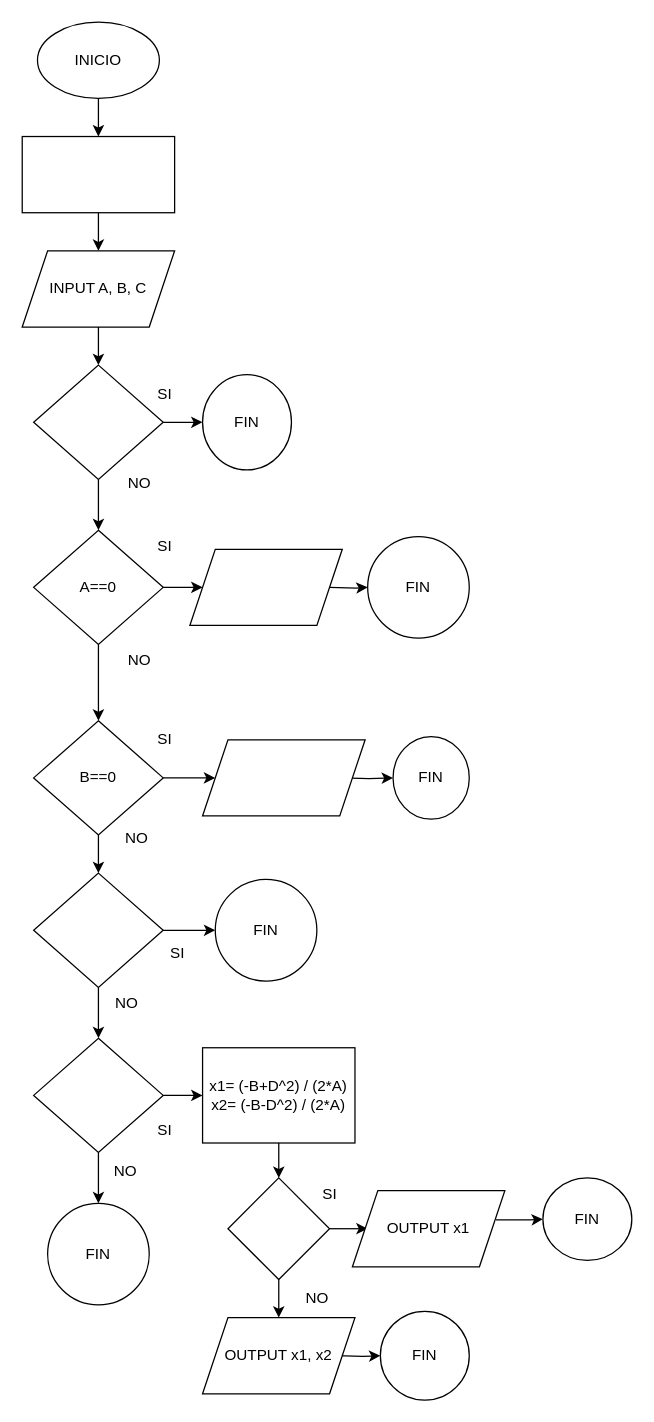
Image size: 654x1422. Some labels were removed from this diagram. The shapes that lost their labels are listed below. From the top down, each one's box as (x1, y1, x2, y2) in pixels, then its label:
(21, 135, 175, 213): Declarando A, B, C
(32, 364, 163, 479): A==0 and B==0
(189, 548, 342, 625): OUTPUT -C/B
(201, 739, 365, 816): OUTPUT (-C/A)^2
(32, 872, 163, 987): D < 0
(32, 1037, 163, 1153): D >= 0
(227, 1177, 330, 1280): x1==x2
